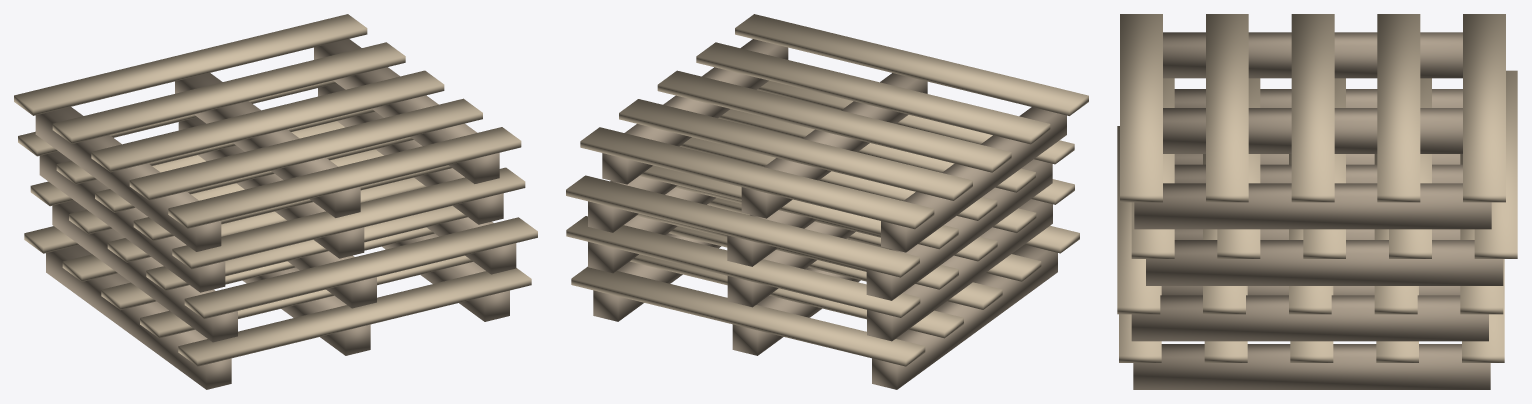
Rendered from ind_pallets.glb.
3 views of the same model, side by side, from view 1: azimuth 30°, elevation 25°; view 2: azimuth 150°, elevation 25°; view 3: azimuth 270°, elevation 25° (orthographic). The views are drawn at different scales.
Visible parts, largest first — view 1: ind_pallets; view 2: ind_pallets; view 3: ind_pallets.
Boxes of the visible parts, x1,y1,x2,y2 form: ind_pallets: [14, 14, 537, 389]; ind_pallets: [566, 14, 1088, 389]; ind_pallets: [1117, 14, 1517, 389].
Bounding box in the file's own units: 1.25 × 0.611 × 1.12.
